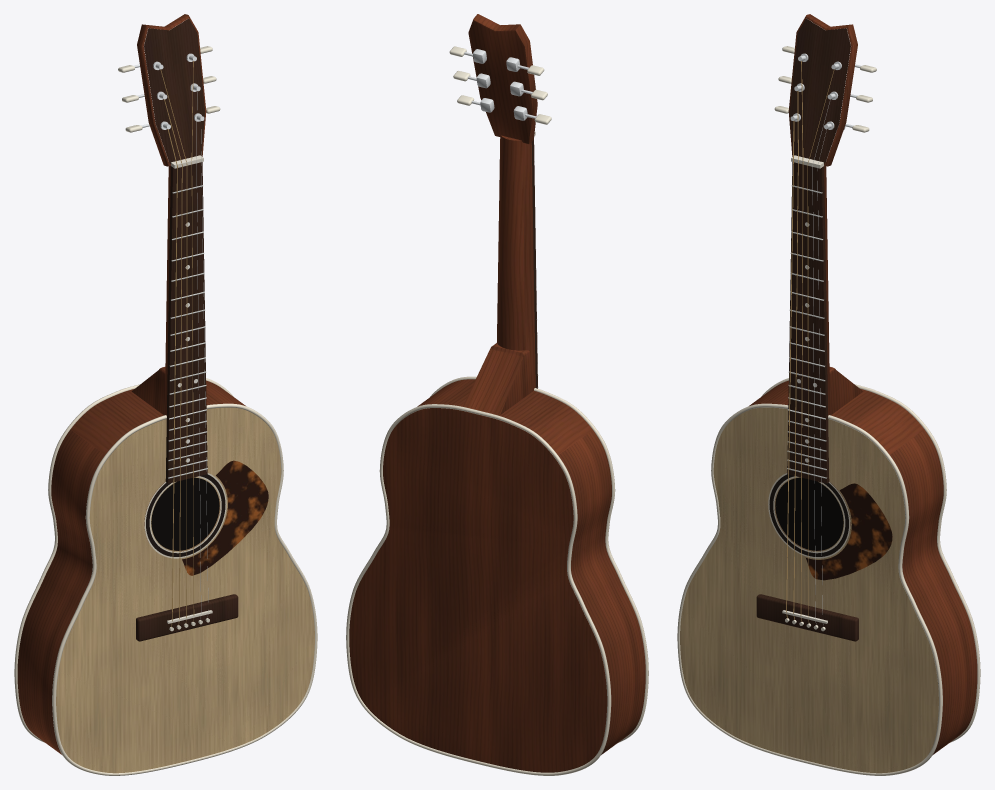
Rendered from acoustic-guitar.glb.
The picture shows the model from 3 angles, left to right: view 1: azimuth 30°, elevation 25°; view 2: azimuth 150°, elevation 25°; view 3: azimuth 330°, elevation 25°; orthographic projection.
Visible parts, largest first — view 1: Acoustic_Guitar; view 2: Acoustic_Guitar; view 3: Acoustic_Guitar.
Part boxes in pixels (bbox=[...]): Acoustic_Guitar: bbox=[14, 14, 317, 775]; Acoustic_Guitar: bbox=[346, 14, 648, 775]; Acoustic_Guitar: bbox=[677, 14, 980, 775].
Bounding box in the file's own units: 0.3962 × 1.05 × 0.1151.
14 materials, 4 textured.
